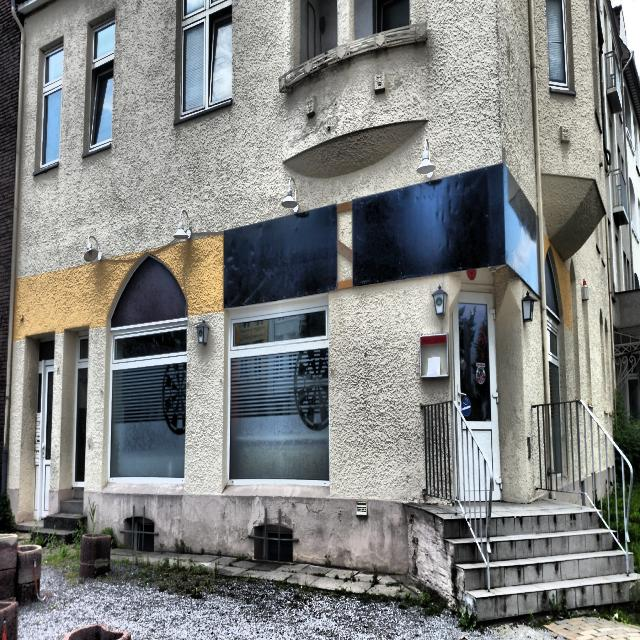escada: (442, 508, 638, 623)
